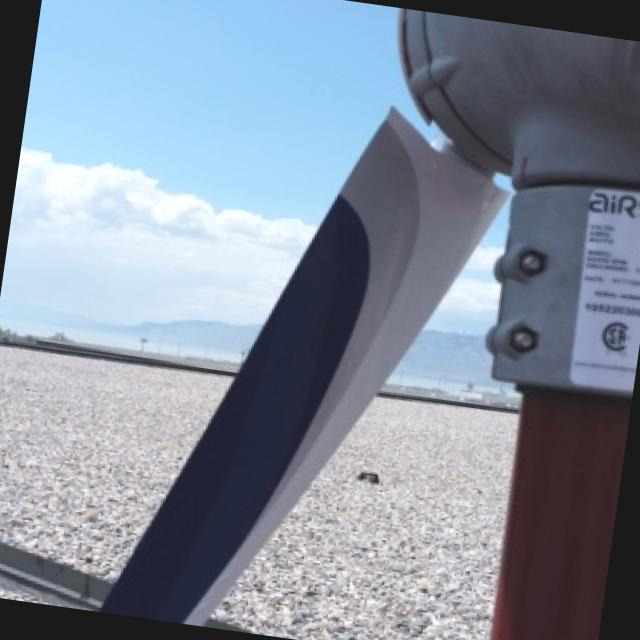healthy: (105, 539, 227, 618)
